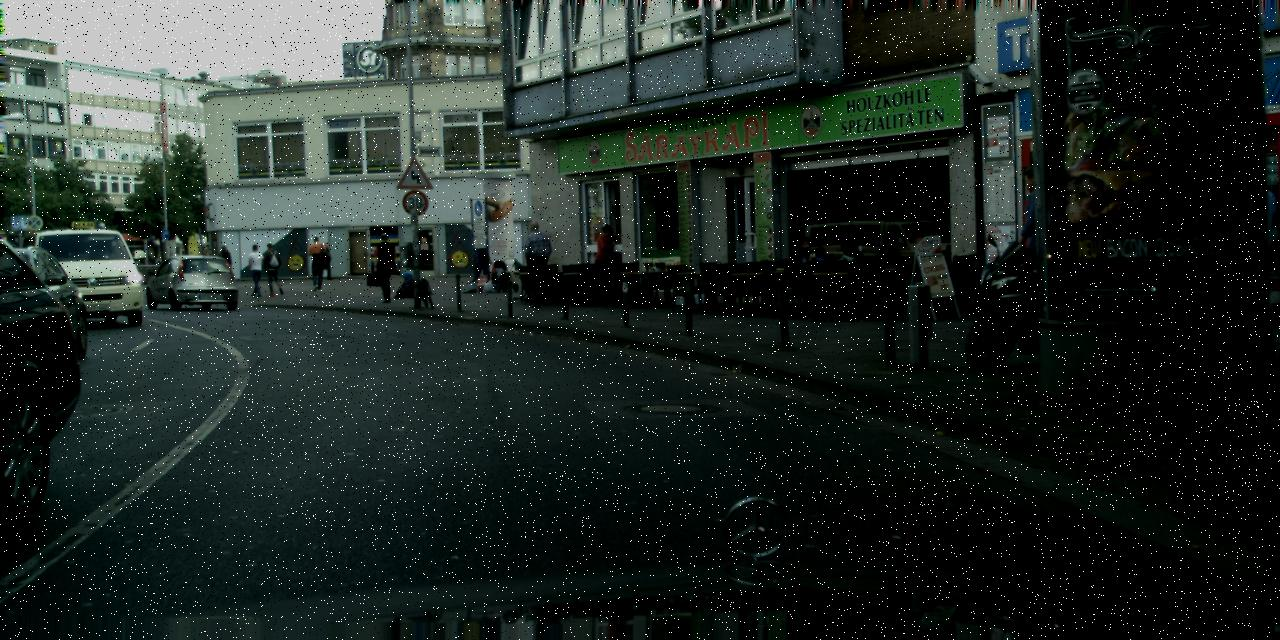ped: (1006, 167, 1070, 323), (520, 219, 554, 305), (591, 224, 622, 300), (371, 232, 398, 302), (244, 243, 266, 297), (306, 235, 328, 289), (262, 242, 283, 294), (470, 234, 490, 280), (216, 245, 232, 284), (316, 242, 332, 279), (198, 246, 213, 284), (155, 254, 163, 274), (146, 255, 154, 275)
